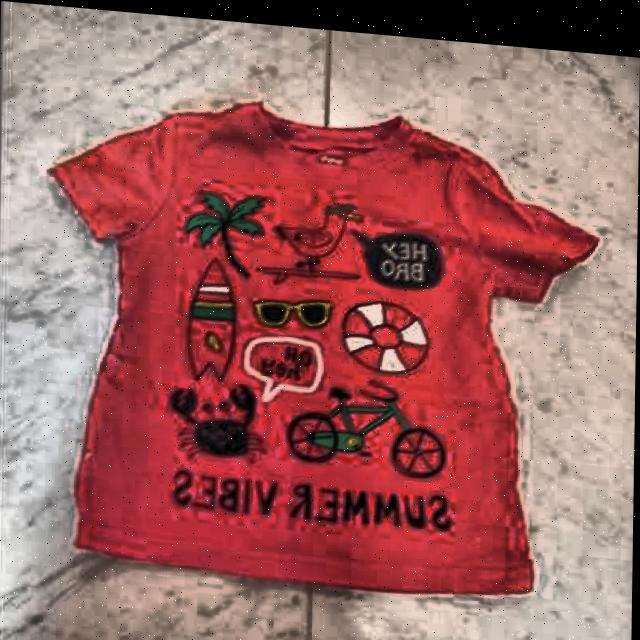clothes: (35, 73, 604, 610)
